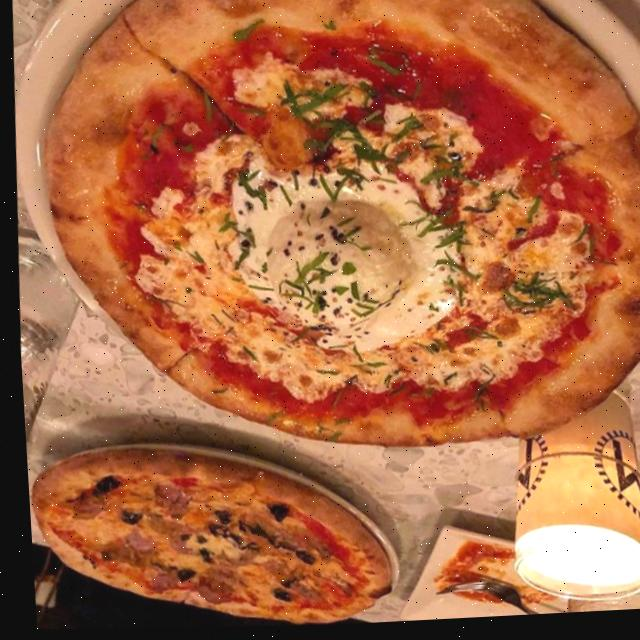pizza: (23, 0, 640, 472)
